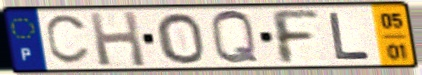C: (43, 13, 92, 67)
F: (266, 8, 323, 67)
H: (86, 9, 149, 69)
L: (325, 10, 374, 62)
O: (154, 11, 208, 66)
Q: (208, 9, 263, 68)
